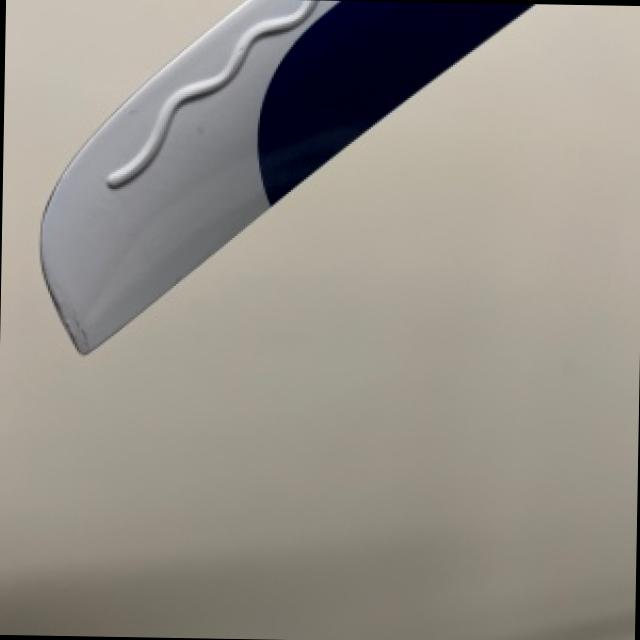healthy: (42, 0, 530, 352)
